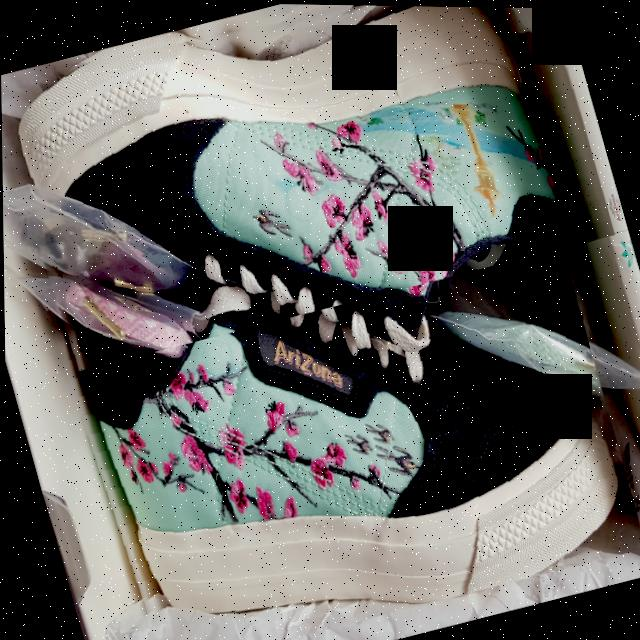shoe: (50, 199, 640, 640), (0, 0, 615, 379)
